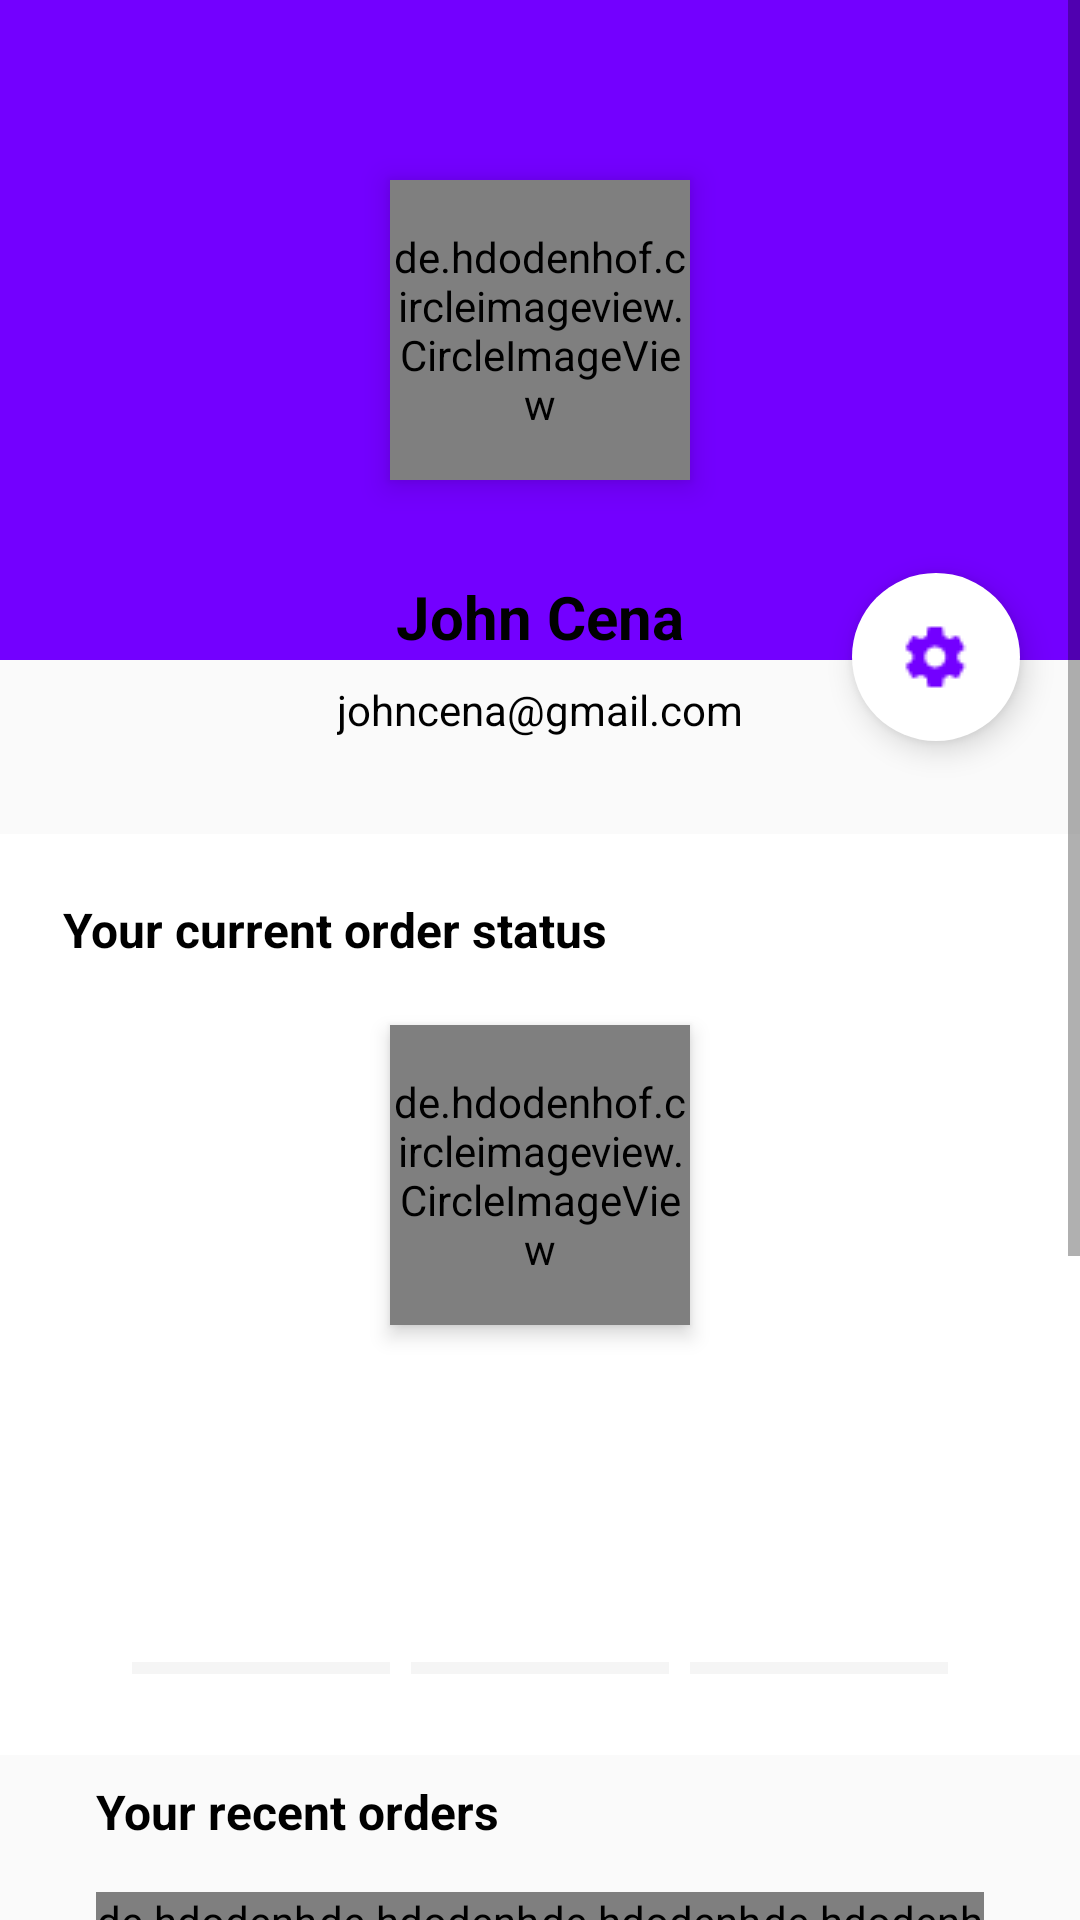

Point at icon controls on the screen. Image size 1080 x 1920, points as (x=x, y=y).
settings: (x=936, y=657)
